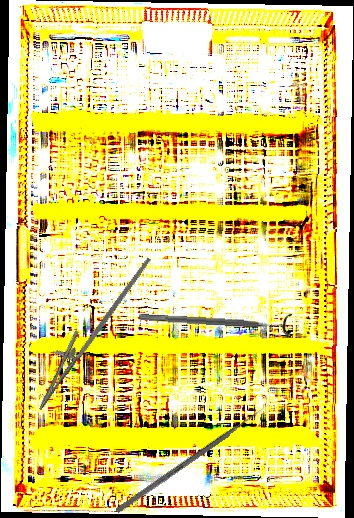Fixation Ring: (138, 305, 293, 336)
Needle Holder: (25, 239, 152, 422)
Pusher: (115, 402, 271, 514)
